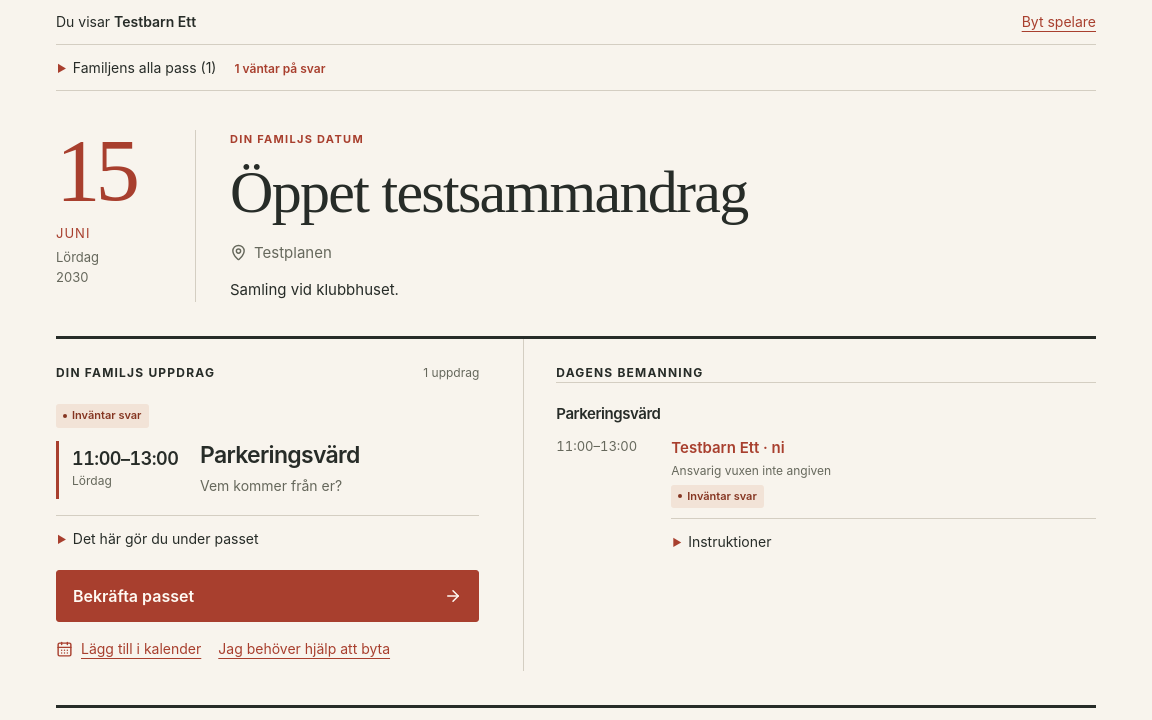
Test: matchday parent view › keeps requests subject to organiser approval instead of changing the assignment
The width and height of the screenshot is (1152, 720).
Step 1. Click the button "Jag behöver hjälp att byta" → coordinates (304, 649), box [218,627,390,671]
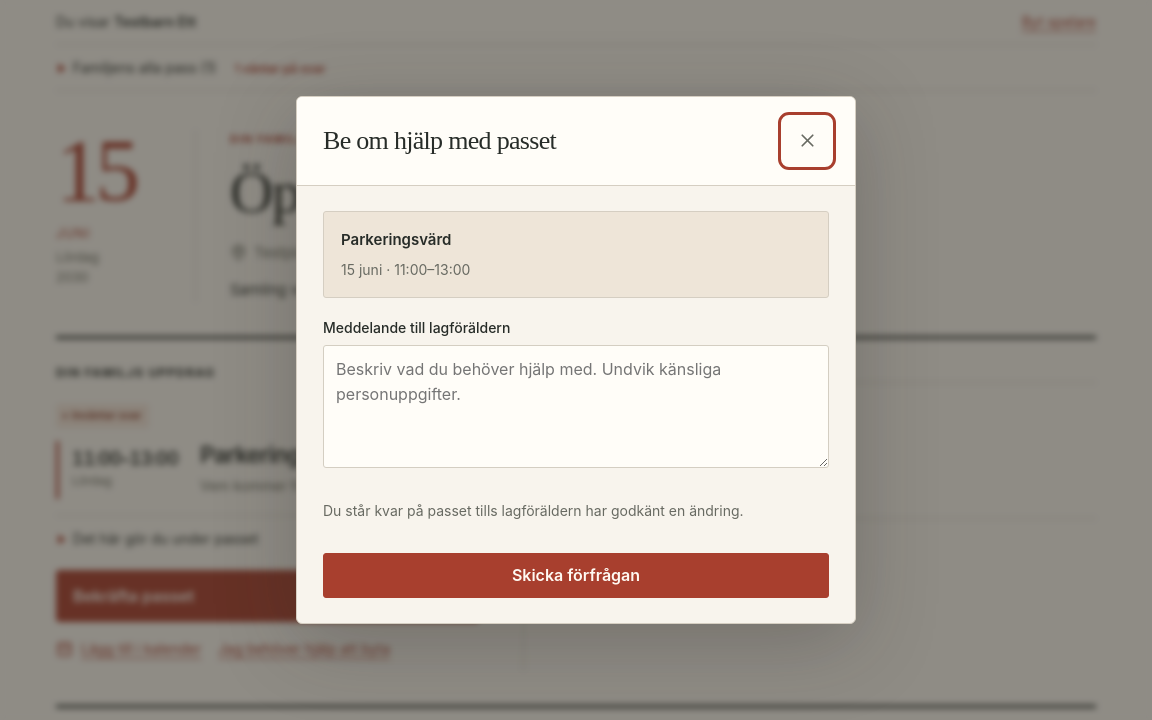
Now the text "Du står kvar på passet tills lagföräldern har godkänt en ändring." is shown, box [323,502,744,519]
Step 2. Type "Vi behöver byta till eftermiddagen." into the text box labelled "Meddelande till lagföräldern" → coordinates (576, 407), box [323,345,829,468]
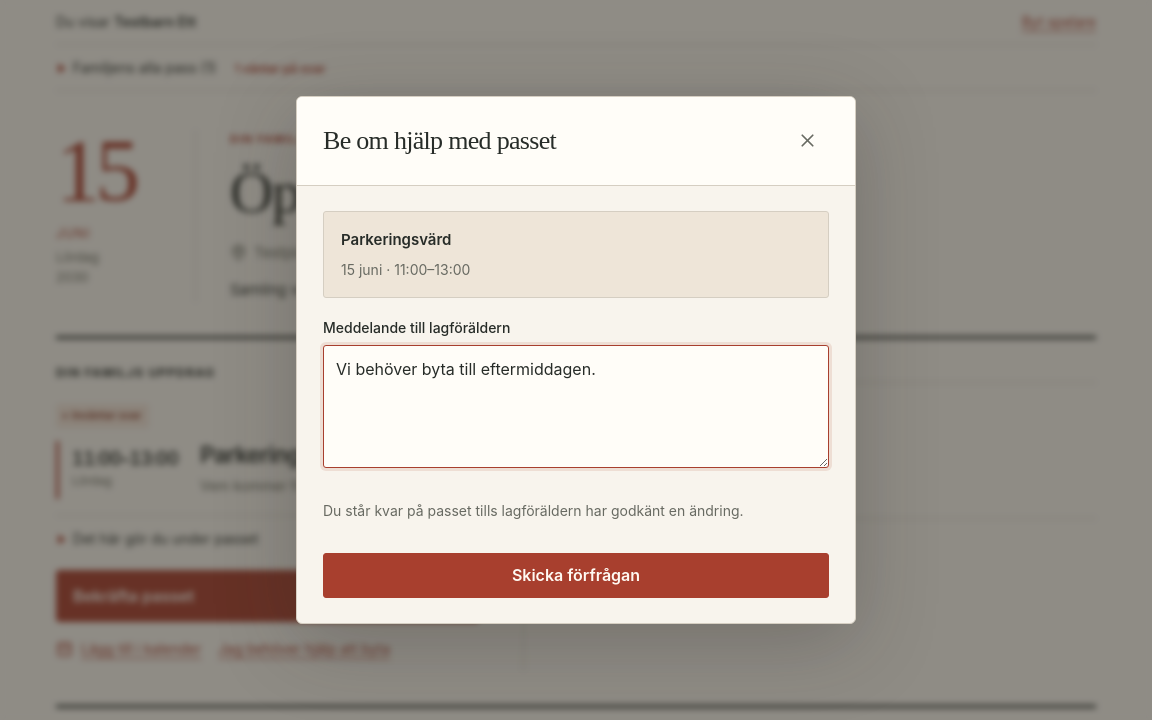
Step 3. Click the button "Skicka förfrågan" → coordinates (576, 576), box [323,554,829,598]
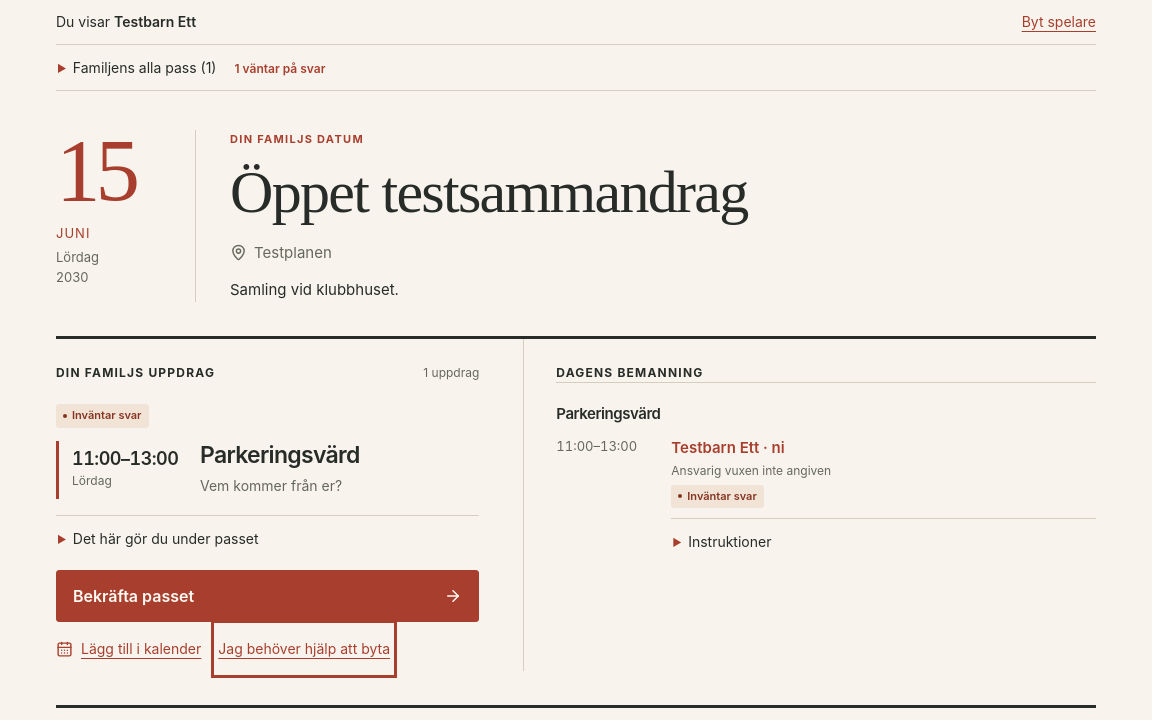
Expected: the button "Bekräfta passet" is shown, [56,570,479,622]
Now the dialog is gone
